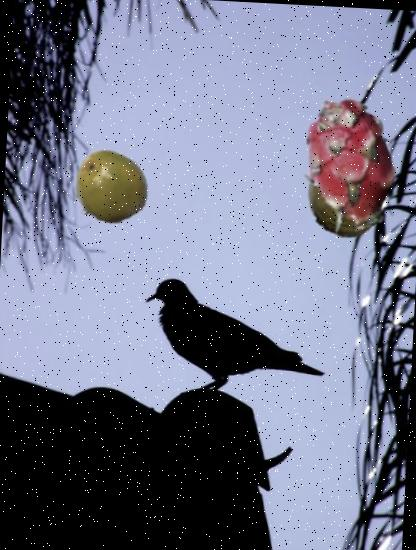Guava: (300, 156, 386, 242)
Maracuja: (70, 148, 152, 230)
Pitahaya: (281, 92, 416, 233)
